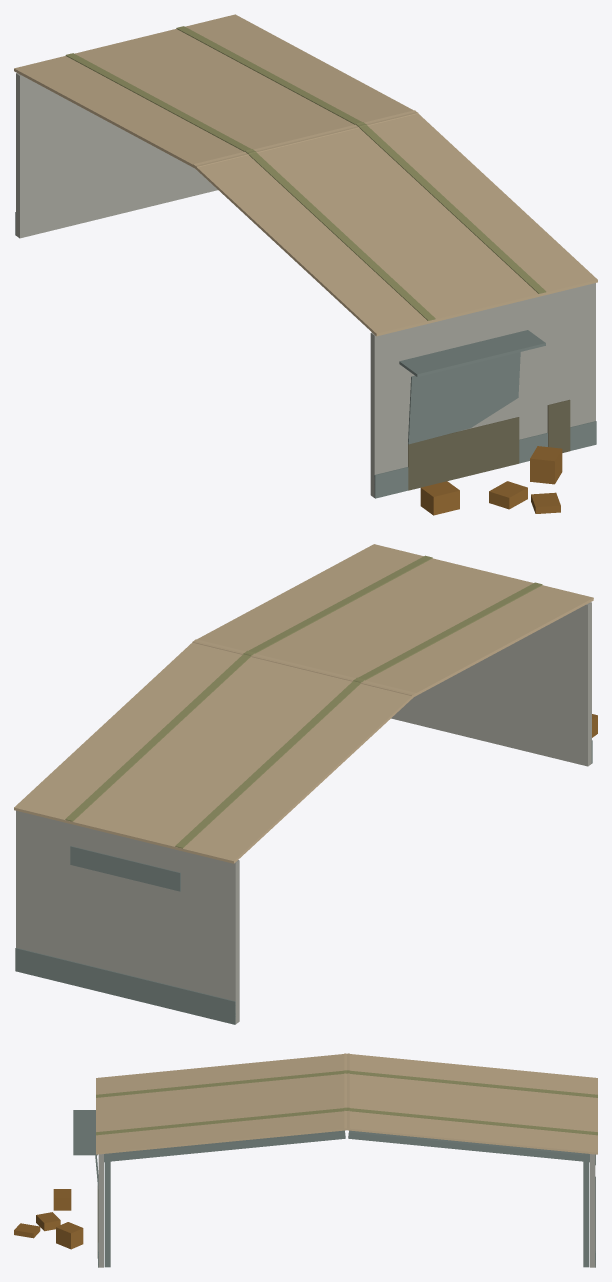
Rendered from SM_NavePoligono_Modulo_e4_Saqueada_LOD1.fbx.
3 views of the same model, one above another, from view 1: azimuth 30°, elevation 25°; view 2: azimuth 150°, elevation 25°; view 3: azimuth 270°, elevation 25° (orthographic). The views are drawn at different scales.
Parts seen in each view (by area): view 1: SM_nave_poligono_v4_LOD1; view 2: SM_nave_poligono_v4_LOD1; view 3: SM_nave_poligono_v4_LOD1.
Part boxes in pixels (left/top/right/bottom): SM_nave_poligono_v4_LOD1: left=14, top=14, right=597, bottom=515; SM_nave_poligono_v4_LOD1: left=14, top=544, right=597, bottom=1024; SM_nave_poligono_v4_LOD1: left=14, top=1053, right=597, bottom=1267.
Size of the model in its own units: 9.98 by 8.72 by 32.94.
